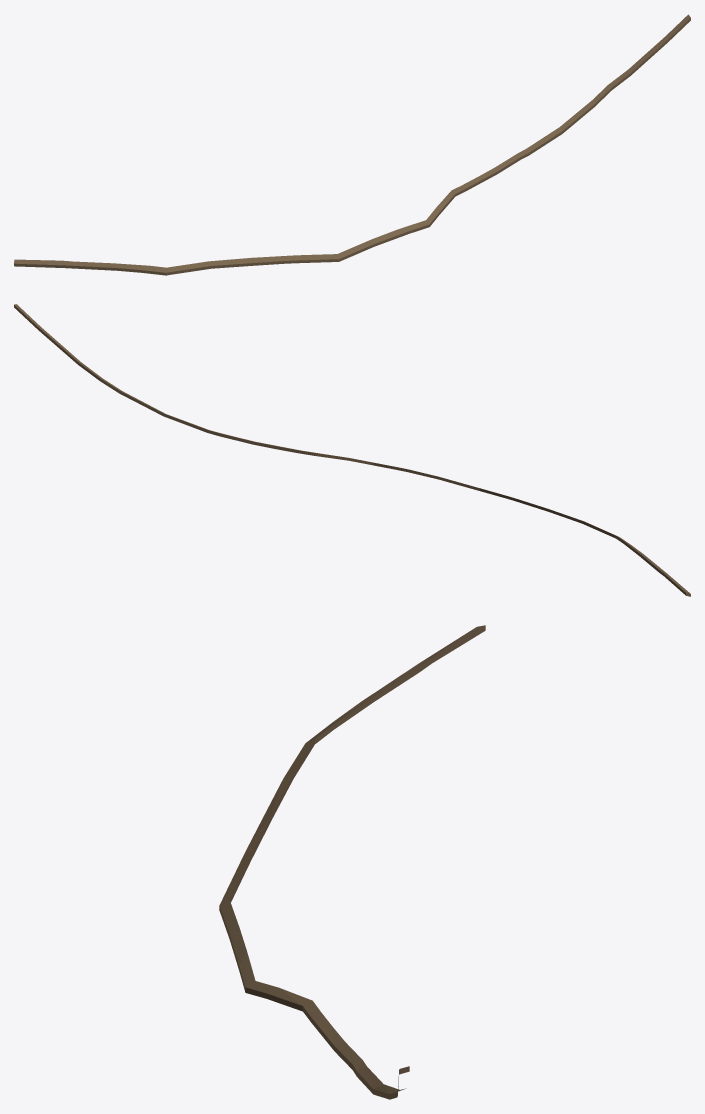
The picture shows the model from 3 angles, top to bottom: view 1: azimuth 30°, elevation 25°; view 2: azimuth 150°, elevation 25°; view 3: azimuth 270°, elevation 25°; orthographic projection. The views are drawn at different scales.
Bounding box in the file's own units: 176 × 29.66 × 30.83.
